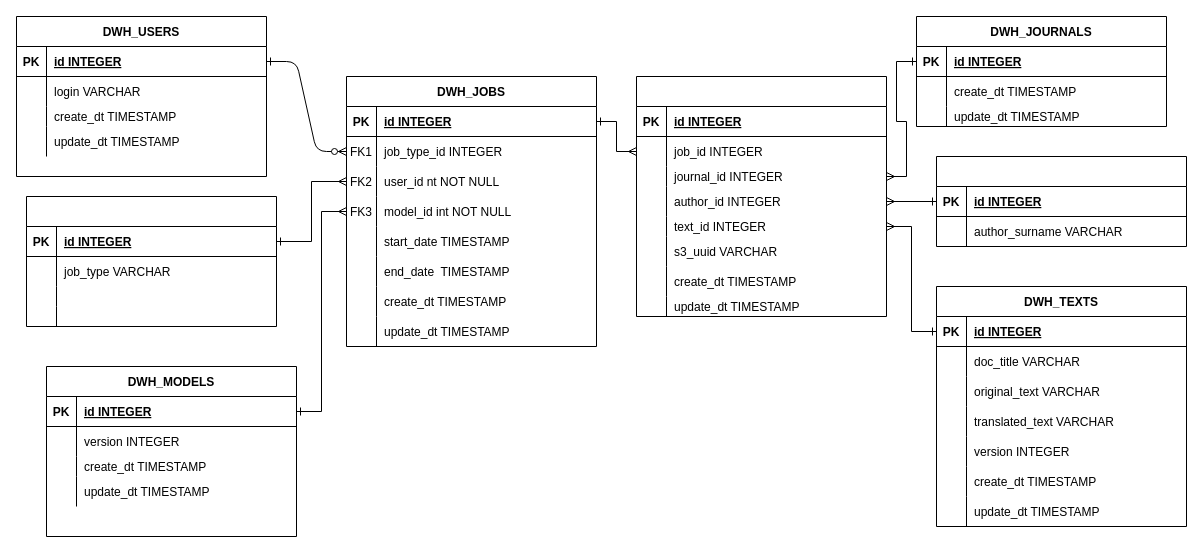
This 1203x553 diagram has some shape labels left out. The shapes that lost their labels are listed below. From the top down, each one's box as (x1, y1, x2, y2) in pixels, then its label:
(636, 76, 886, 316): DWH_FILE_TRANSLATION_JOBS
(936, 156, 1186, 246): DWH_AUTHORS
(26, 196, 276, 326): DWH_JOB_TYPES
